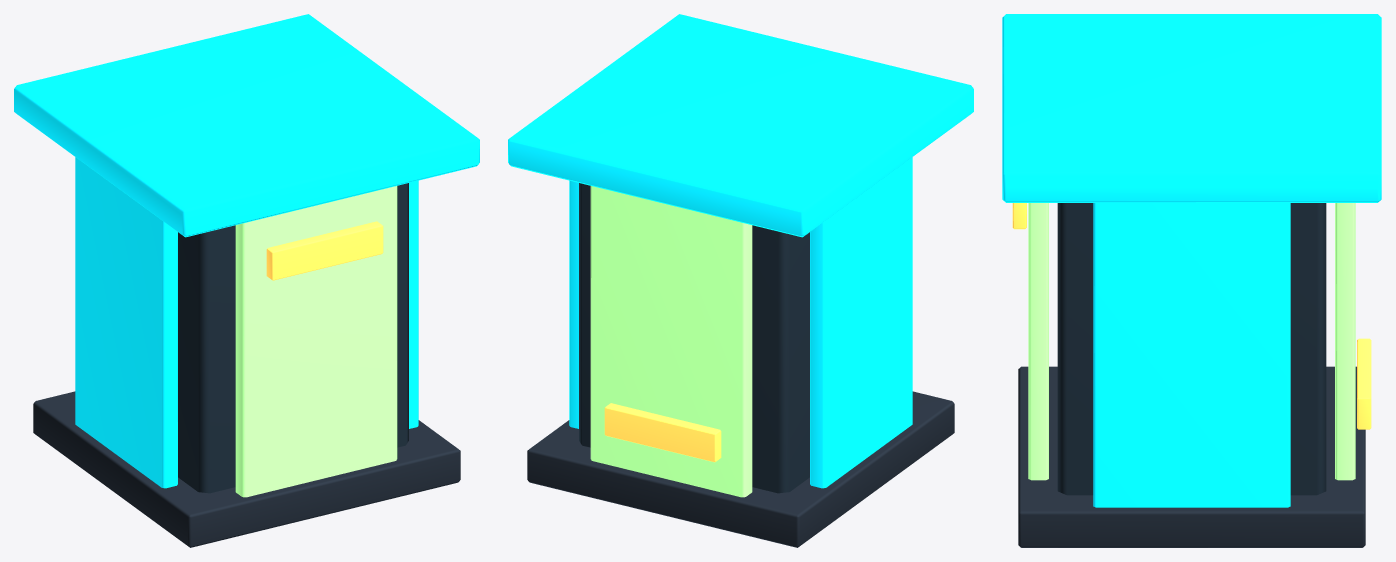
The model's file is gate_post.glb.
3 renders of one model, left to right at view 1: azimuth 30°, elevation 25°; view 2: azimuth 150°, elevation 25°; view 3: azimuth 270°, elevation 25°, orthographic. The views are drawn at different scales.
Parts seen in each view (by area): view 1: GatePostCap, GatePostFrontGlow, GatePostSideGlowR, GatePostDarkFoot, GatePostCore, GatePostAmberTickA, GatePostSideGlowL; view 2: GatePostCap, GatePostBackGlow, GatePostSideGlowR, GatePostDarkFoot, GatePostCore, GatePostAmberTickB, GatePostSideGlowL; view 3: GatePostCap, GatePostSideGlowL, GatePostCore, GatePostDarkFoot, GatePostBackGlow, GatePostFrontGlow, GatePostAmberTickB.
Part boxes in pixels (<box>): GatePostCap: <box>14,14,479,237</box>; GatePostFrontGlow: <box>235,186,397,497</box>; GatePostSideGlowR: <box>75,157,177,488</box>; GatePostDarkFoot: <box>33,391,460,547</box>; GatePostCore: <box>178,183,408,493</box>; GatePostAmberTickA: <box>266,221,383,280</box>; GatePostSideGlowL: <box>409,180,418,428</box>; GatePostCap: <box>508,14,973,237</box>; GatePostBackGlow: <box>590,186,752,497</box>; GatePostSideGlowR: <box>810,157,912,488</box>; GatePostDarkFoot: <box>527,391,954,547</box>; GatePostCore: <box>579,183,809,493</box>; GatePostAmberTickB: <box>604,403,721,462</box>; GatePostSideGlowL: <box>569,180,578,428</box>; GatePostCap: <box>1002,14,1381,202</box>; GatePostSideGlowL: <box>1093,203,1290,507</box>; GatePostCore: <box>1057,203,1326,495</box>; GatePostDarkFoot: <box>1018,366,1365,547</box>; GatePostBackGlow: <box>1335,203,1355,480</box>; GatePostFrontGlow: <box>1028,203,1048,480</box>; GatePostAmberTickB: <box>1357,338,1371,429</box>.
Size of the model in its own units: 0.48 by 0.5355 by 0.48.
